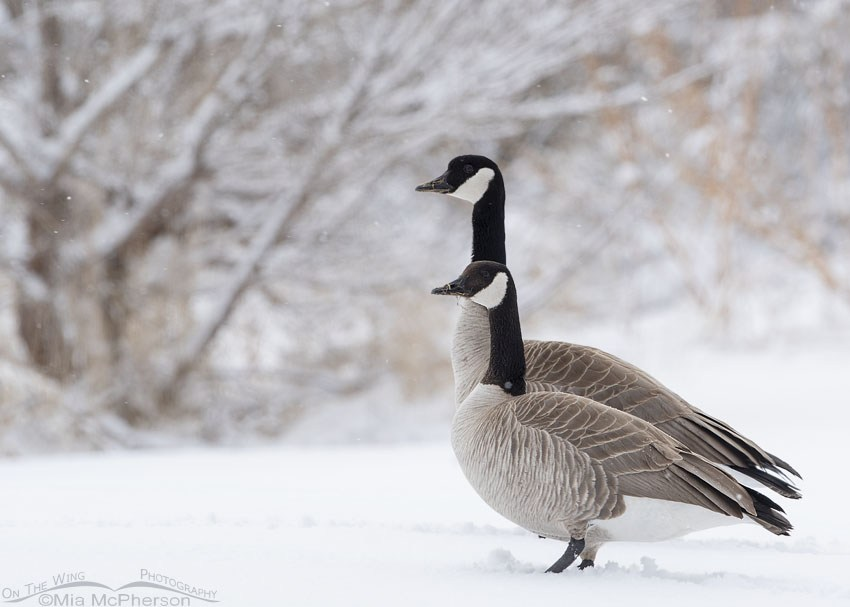goose: (413, 152, 811, 507), (425, 259, 800, 576)
